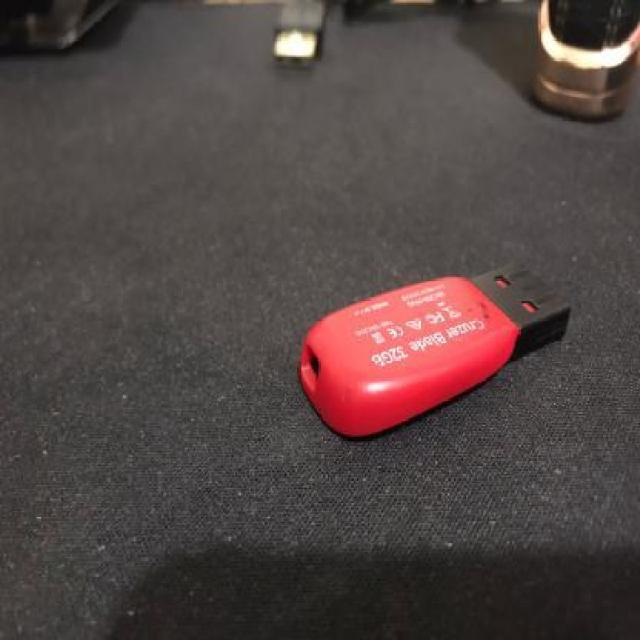Flashdisk: (276, 246, 596, 451)
